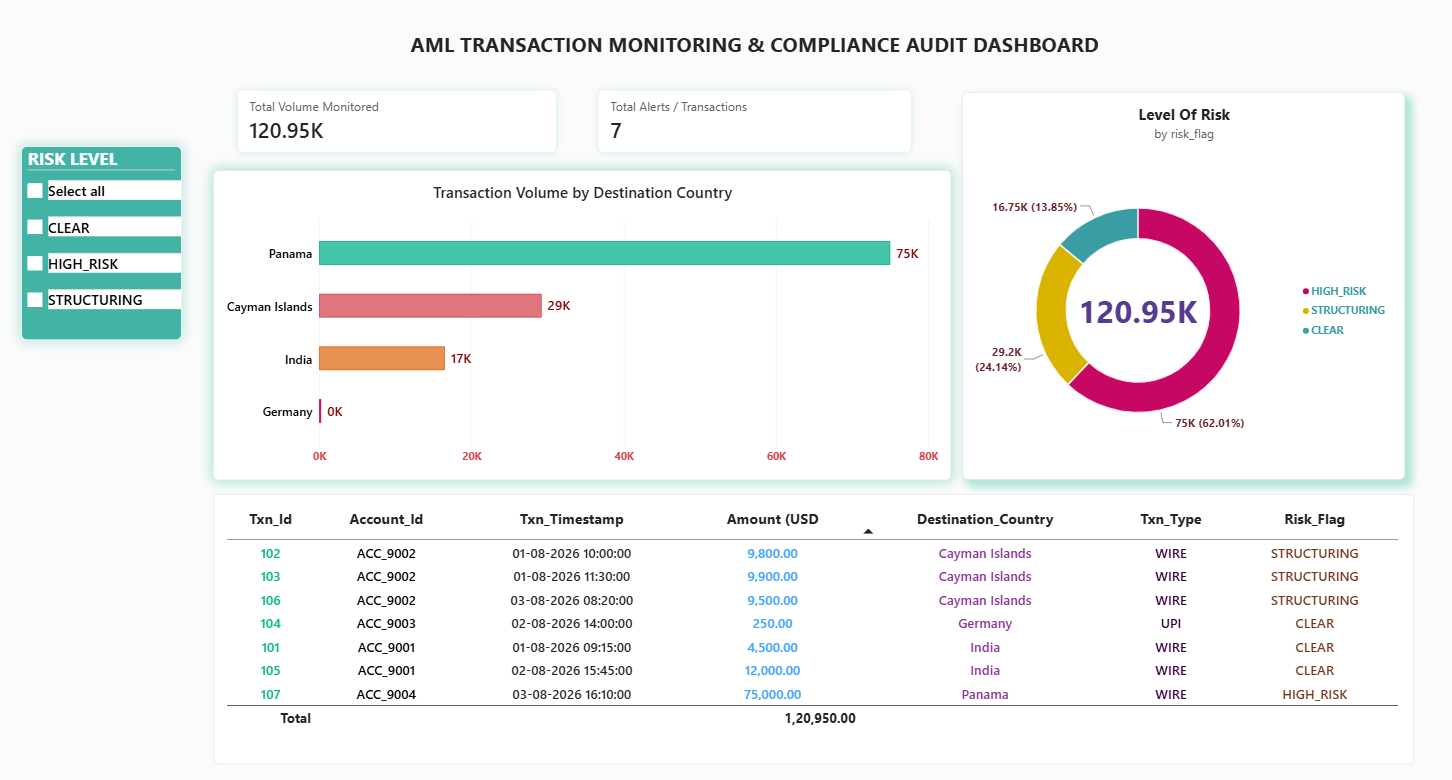

The dashboard page shown, as its layout file describes it:
{"tool":"powerbi","page":{"name":"Page 1","canvas":[1920,1080],"ordinal":0},"visuals":[{"type":"donutChart","title":"Level Of Risk","fields":{"Category":["aml_transactions.risk_flag"],"Y":["Sum(aml_transactions.txn_amount)"]},"box":[1269,122.6,583.8,511.3],"z":0},{"type":"clusteredBarChart","title":"Transaction Volume by Destination Country","fields":{"Category":["aml_transactions.destination_country"],"Y":["Sum(aml_transactions.txn_amount)"]},"box":[282,225.3,972.5,408.5],"z":1000},{"type":"slicer","fields":{"Values":["aml_transactions.risk_flag"]},"box":[29,193.7,212.2,255.6],"z":2000},{"type":"tableEx","fields":{"Values":["aml_transactions.txn_id","aml_transactions.account_id","aml_transactions.txn_timestamp","Sum(aml_transactions.txn_amount)","aml_transactions.destination_country","aml_transactions.txn_type","aml_transactions.risk_flag"]},"box":[282,652.3,1582.6,355.8],"z":3000},{"type":"textbox","box":[303.4,41,1385.7,82],"z":4000},{"type":"cardVisual","fields":{"Data":["Sum(aml_transactions.txn_amount)"]},"box":[303.1,109.4,442.8,104.1],"z":5000},{"type":"cardVisual","fields":{"Data":["CountNonNull(aml_transactions.txn_id)"]},"box":[778.8,109.4,434.9,104.1],"z":6000}]}

Visuals, with their boxes on the page's 1920x1080 design canvas (x1, y1, x2, y2). These are canvas units, not pixel positions in the 1452x780 screenshot, which may show the page scaled, cropped or inside an application window:
"Level Of Risk" donutChart: 1269, 123, 1853, 634
"Transaction Volume by Destination Country" clusteredBarChart: 282, 225, 1254, 634
slicer - aml_transactions.risk_flag: 29, 194, 241, 449
tableEx - aml_transactions.txn_id x aml_transactions.account_id: 282, 652, 1865, 1008
textbox: 303, 41, 1689, 123
cardVisual - Sum(aml_transactions.txn_amount): 303, 109, 746, 214
cardVisual - CountNonNull(aml_transactions.txn_id): 779, 109, 1214, 214
